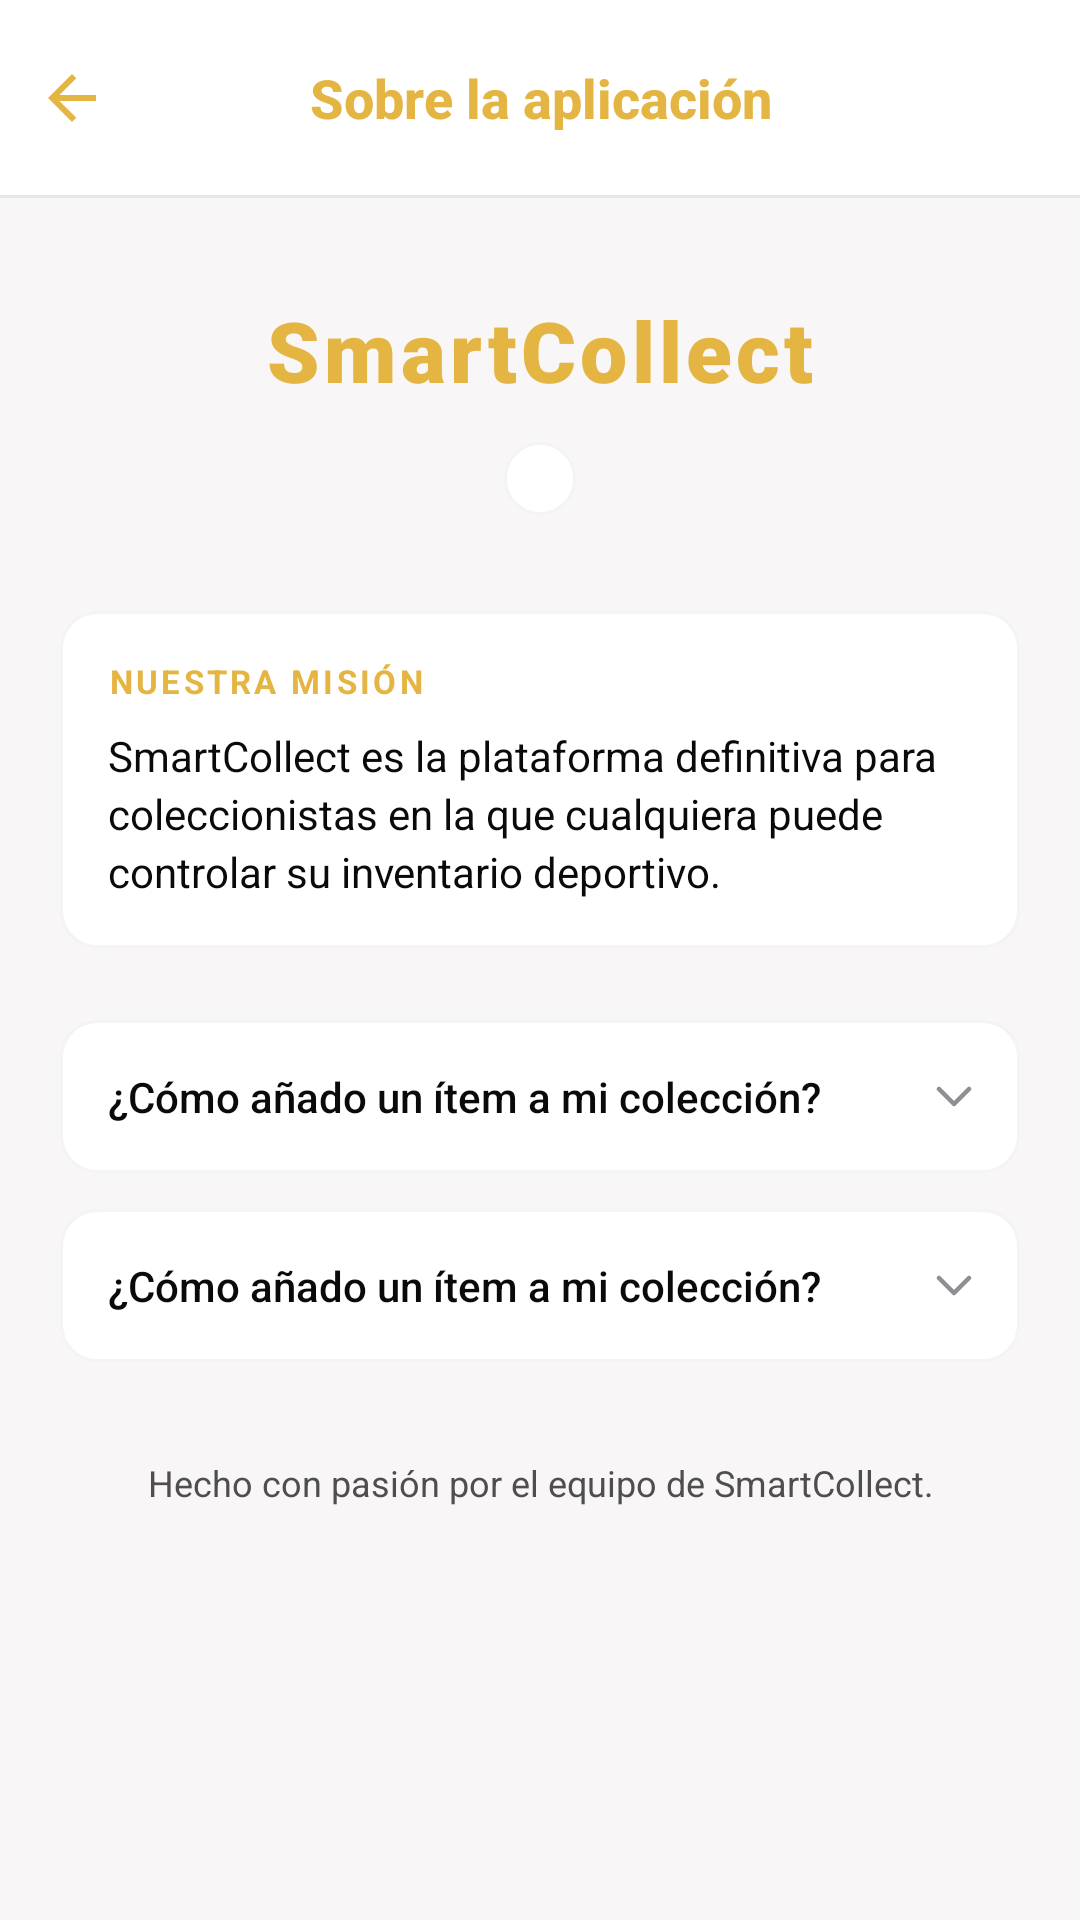

Named icons in this screenshot (1080×1920) and their centers, (x=x, y=y):
Volver: (x=72, y=98)
